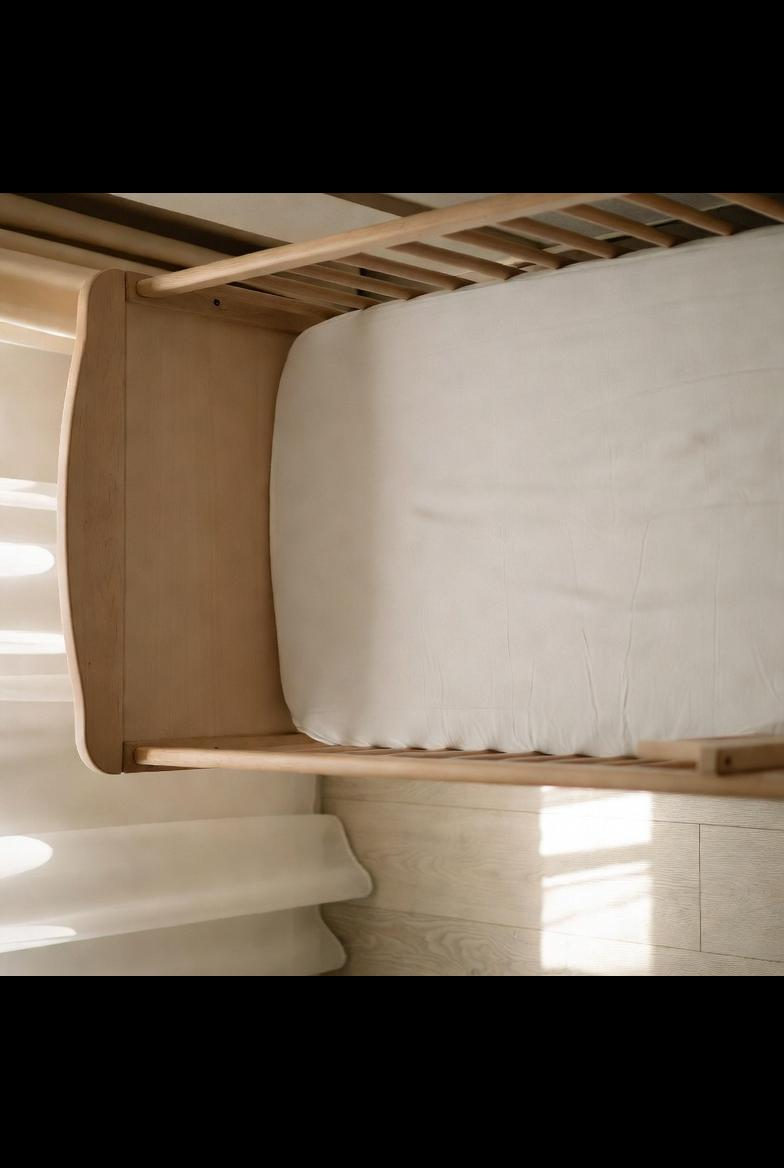crib: (61, 192, 784, 838)
